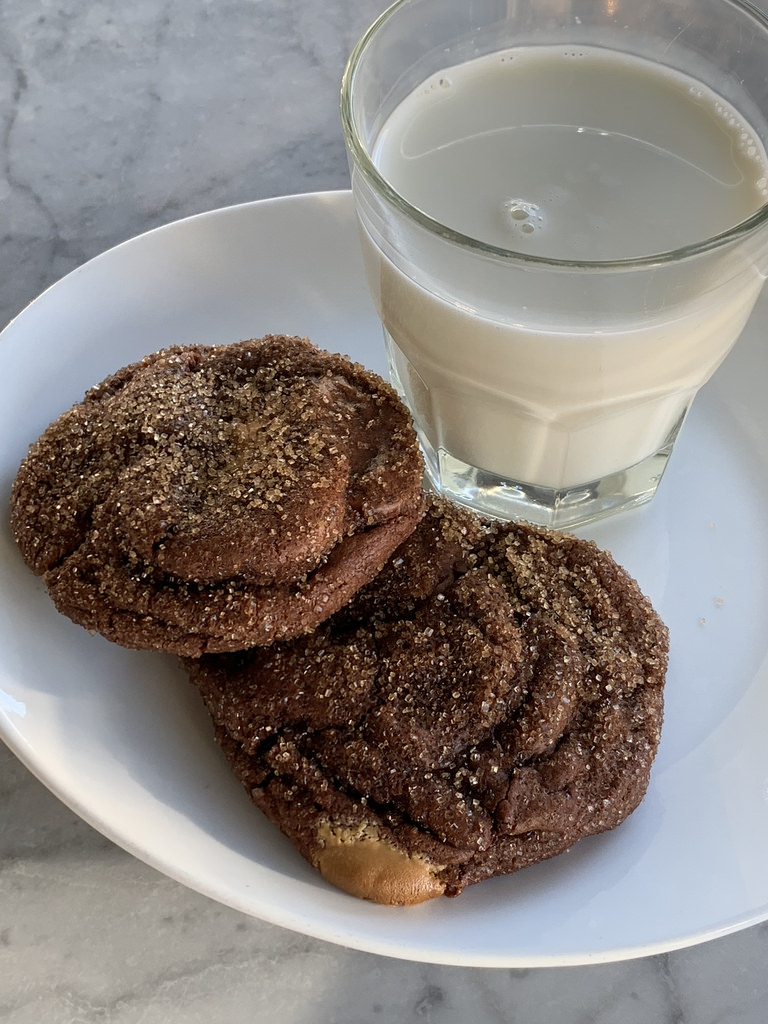glass of milk: (355, 25, 724, 575)
slice of bread: (197, 525, 576, 837), (70, 360, 401, 625)
